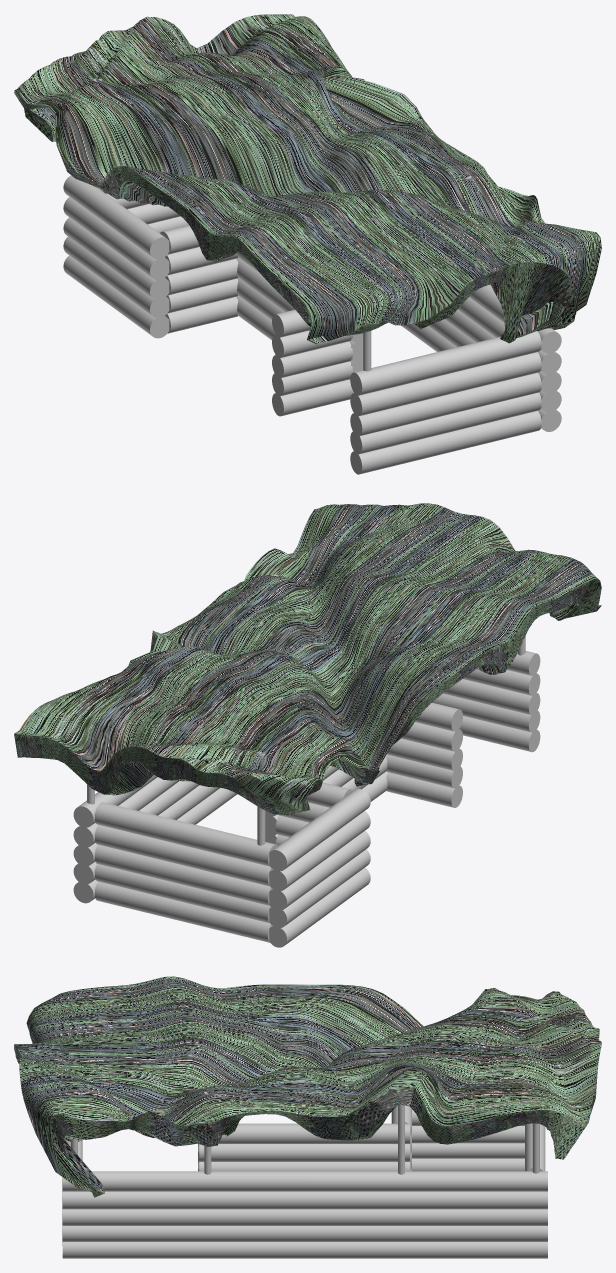
The model's file is KMP.fbx.
3 renders of one model, top to bottom at view 1: azimuth 30°, elevation 25°; view 2: azimuth 150°, elevation 25°; view 3: azimuth 270°, elevation 25°, orthographic. The views are drawn at different scales.
Visible parts, largest first — view 1: Объект_Куб, Объект_Цилиндр_4_6, Объект_Цилиндр_2_6, Объект_Цилиндр_1_5, Объект_Цилиндр_3_6, Объект_Цилиндр_5_4, Объект_Цилиндр_2_2, Объект_Цилиндр_1_2, Объект_Цилиндр_4_2, Объект_Цилиндр_2_3, Объект_Цилиндр_3_2, Объект_Цилиндр_3_3 (+18 smaller); view 2: Объект_Куб, Объект_Цилиндр_4_4, Объект_Цилиндр_2_5, Объект_Цилиндр_1_4, Объект_Цилиндр_3_5, Объект_Цилиндр_4_5, Объект_Цилиндр_2_2, Объект_Цилиндр_1_2, Объект_Цилиндр_4_2, Объект_Цилиндр_2_3, Объект_Цилиндр_3_2, Объект_Цилиндр_3_6 (+15 smaller); view 3: Объект_Куб, Объект_Цилиндр_4_7, Объект_Цилиндр_2_7, Объект_Цилиндр_3_7, Объект_Цилиндр_6_4, Объект_Цилиндр_1_6, Объект_Цилиндр_6_2, Объект_Цилиндр_5_2, Объект_Цилиндр_7_2, Объект_Цилиндр_3_2, Объект_Цилиндр_4_2, Объект_Цилиндр_2_3 (+3 smaller).
Boxes of the visible parts, x1,y1,x2,y2 form: Объект_Куб: [14, 14, 601, 344]; Объект_Цилиндр_4_6: [350, 331, 541, 395]; Объект_Цилиндр_2_6: [350, 352, 541, 416]; Объект_Цилиндр_1_5: [350, 411, 541, 474]; Объект_Цилиндр_3_6: [350, 372, 541, 436]; Объект_Цилиндр_5_4: [350, 392, 541, 454]; Объект_Цилиндр_2_2: [63, 175, 169, 259]; Объект_Цилиндр_1_2: [63, 197, 169, 280]; Объект_Цилиндр_4_2: [63, 255, 169, 338]; Объект_Цилиндр_2_3: [63, 217, 169, 300]; Объект_Цилиндр_3_2: [63, 237, 169, 318]; Объект_Цилиндр_3_3: [272, 341, 352, 378]; Объект_Куб: [14, 503, 601, 815]; Объект_Цилиндр_4_4: [94, 802, 277, 866]; Объект_Цилиндр_2_5: [94, 825, 272, 886]; Объект_Цилиндр_1_4: [95, 881, 272, 942]; Объект_Цилиндр_3_5: [95, 844, 272, 905]; Объект_Цилиндр_4_5: [94, 864, 271, 923]; Объект_Цилиндр_2_2: [269, 789, 370, 871]; Объект_Цилиндр_1_2: [269, 811, 370, 891]; Объект_Цилиндр_4_2: [269, 867, 370, 947]; Объект_Цилиндр_2_3: [269, 831, 370, 910]; Объект_Цилиндр_3_2: [269, 849, 370, 928]; Объект_Цилиндр_3_6: [443, 679, 540, 715]; Объект_Куб: [14, 976, 601, 1197]; Объект_Цилиндр_4_7: [62, 1171, 547, 1191]; Объект_Цилиндр_2_7: [62, 1191, 547, 1209]; Объект_Цилиндр_3_7: [62, 1209, 547, 1225]; Объект_Цилиндр_6_4: [62, 1242, 547, 1258]; Объект_Цилиндр_1_6: [62, 1226, 547, 1241]; Объект_Цилиндр_6_2: [199, 1144, 410, 1161]; Объект_Цилиндр_5_2: [218, 1123, 410, 1143]; Объект_Цилиндр_7_2: [199, 1162, 410, 1171]; Объект_Цилиндр_3_2: [412, 1143, 524, 1158]; Объект_Цилиндр_4_2: [412, 1158, 524, 1171]; Объект_Цилиндр_2_3: [412, 1126, 524, 1143].
Size of the model in its own units: 630 by 411 by 1200.
Materials: 7 (1 with a texture image).
